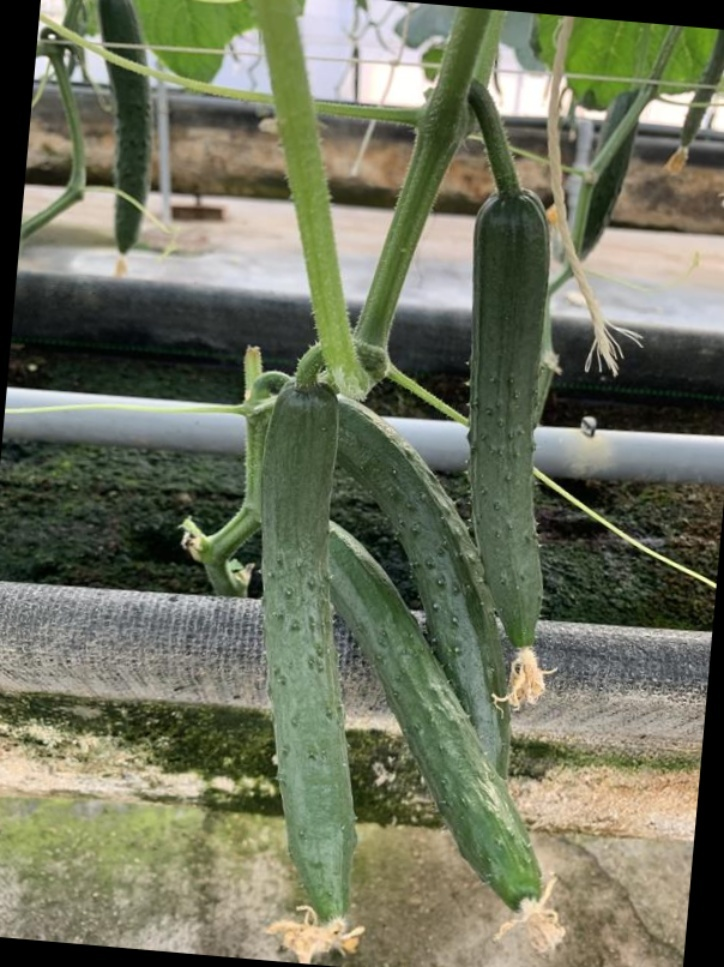mature: (325, 516, 547, 905), (238, 404, 378, 917), (336, 400, 514, 784), (467, 183, 558, 652)
